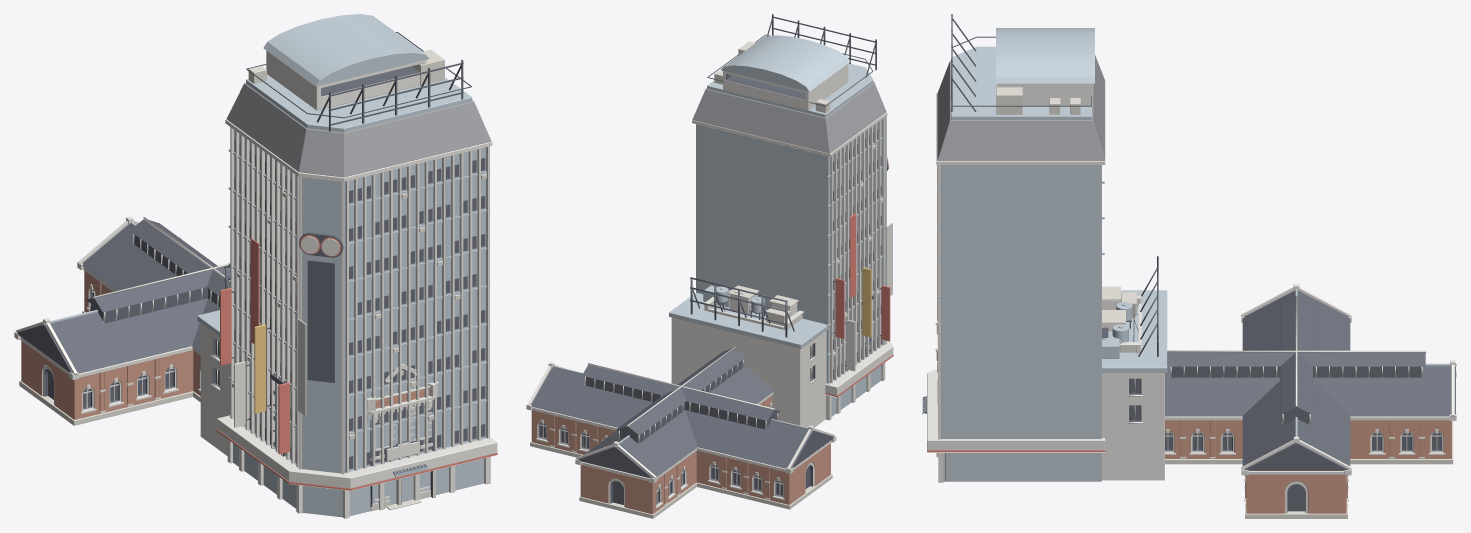
Rendered from bundle-core.glb.
The picture shows the model from 3 angles, left to right: view 1: azimuth 30°, elevation 25°; view 2: azimuth 150°, elevation 25°; view 3: azimuth 270°, elevation 25°; orthographic projection. The views are drawn at different scales.
Parts seen in each view (by area): view 1: main (×3); view 2: main (×3), block; view 3: main (×3), block.
Part boxes in pixels (<box>): main (×3): <box>14,14,497,518</box>; main (×3): <box>526,14,893,518</box>; block: <box>704,285,803,330</box>; main (×3): <box>922,14,1456,518</box>; block: <box>1102,286,1141,353</box>.
Size of the model in its own units: 30.8 by 36.86 by 44.7.
